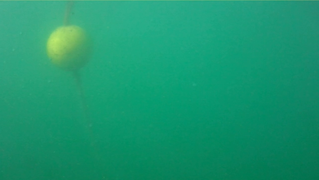buoy: (46, 24, 94, 71)
